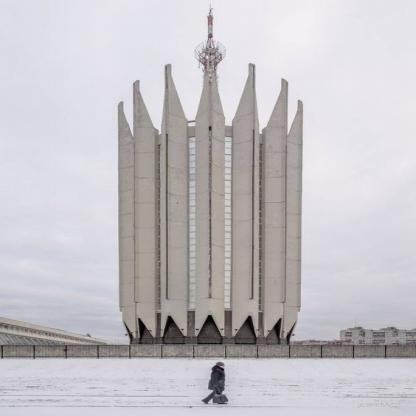Building Outline: (118, 3, 303, 345)
Facade: (118, 3, 302, 345)
Glass Wall: (224, 136, 232, 309), (187, 137, 195, 308), (157, 144, 162, 310), (258, 144, 263, 310)
Pillar: (195, 58, 225, 336), (232, 63, 259, 338), (161, 63, 188, 337), (262, 78, 288, 339), (134, 79, 158, 338), (285, 100, 303, 341), (118, 101, 136, 340)
